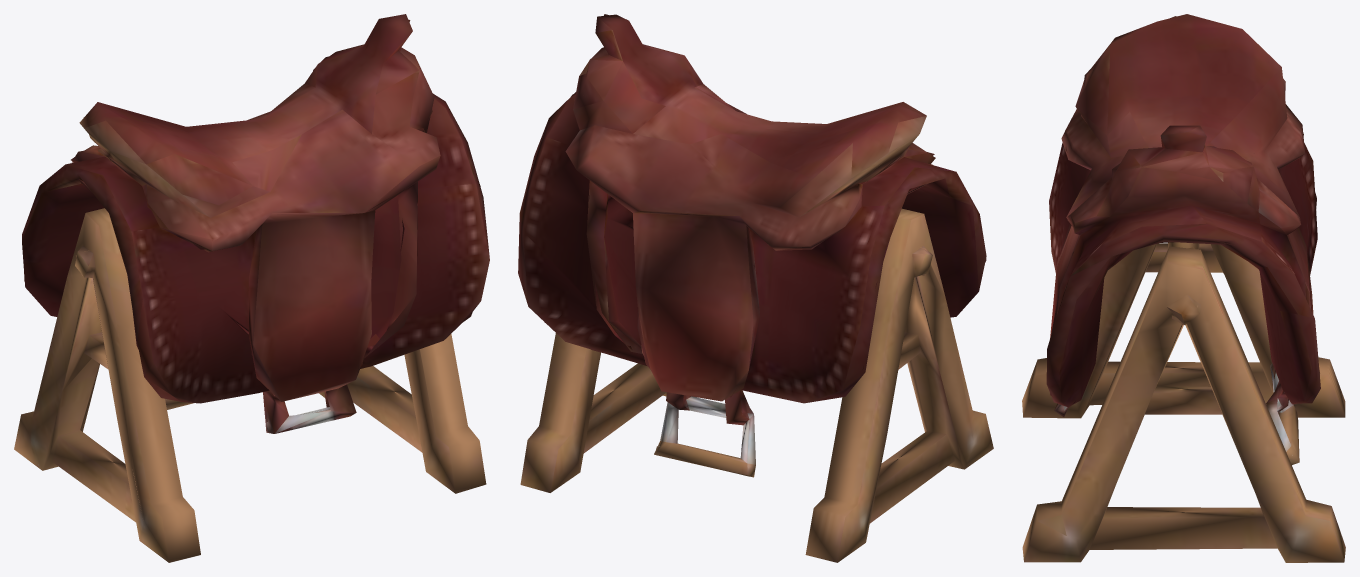
Rendered from lg-saddle-stand.glb.
The picture shows the model from 3 angles, left to right: view 1: azimuth 30°, elevation 25°; view 2: azimuth 150°, elevation 25°; view 3: azimuth 270°, elevation 25°; orthographic projection. The views are drawn at different scales.
Visible parts, largest first — view 1: geometry_0; view 2: geometry_0; view 3: geometry_0.
Boxes of the visible parts, box(x1,y1,x2,y2) form: geometry_0: box(14, 14, 489, 562); geometry_0: box(518, 14, 993, 562); geometry_0: box(1022, 14, 1345, 562).
Size of the model in its own units: 0.9033 by 1 by 0.6818.
Materials: 1 (1 with a texture image).
